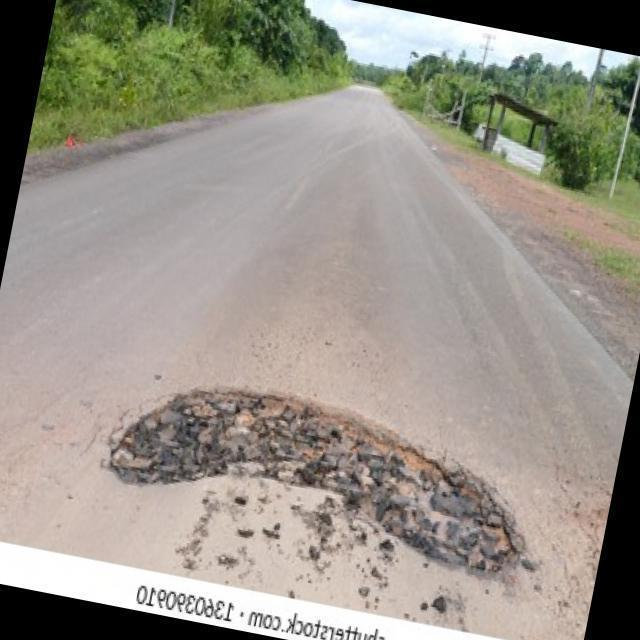pothole: (100, 365, 543, 584)
